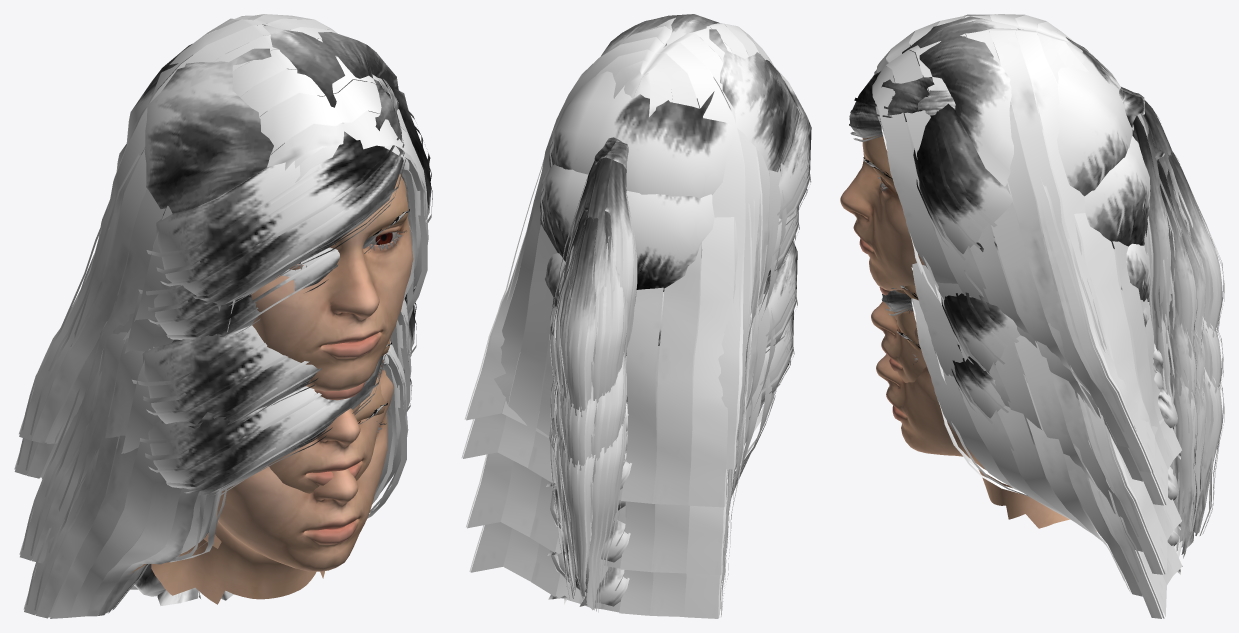
Rendered from mh_head_f.glb.
The picture shows the model from 3 angles, left to right: view 1: azimuth 30°, elevation 25°; view 2: azimuth 150°, elevation 25°; view 3: azimuth 270°, elevation 25°; orthographic projection. The views are drawn at different scales.
Parts seen in each view (by area): view 1: hair_braid01#3, hair_long01#3, hair_long01#2, hair_braid01#2, hair_braid01#0, face#2, hair_long01#0, face#3, face_cov#2, face_cov#3, hair_braid01#1, face#0 (+2 smaller); view 2: hair_long01#1, hair_long01#3, hair_braid01#3, hair_long01#0, hair_long01#2, hair_braid01#1, hair_ponytail01#1, hair_ponytail01#2, hair_ponytail01#3, hair_ponytail01#0, hair_braid01#0, hair_braid01#2; view 3: hair_long01#3, hair_braid01#3, hair_long01#2, hair_long01#0, hair_long01#1, hair_ponytail01#1, hair_ponytail01#2, hair_ponytail01#3, hair_braid01#1, hair_braid01#0, hair_ponytail01#0, face#2 (+6 smaller).
Part boxes in pixels (<box>): hair_braid01#3: <box>126,25,432,306</box>; hair_long01#3: <box>19,14,428,443</box>; hair_long01#2: <box>23,341,408,618</box>; hair_braid01#2: <box>133,355,412,605</box>; hair_braid01#0: <box>132,288,416,428</box>; face#2: <box>130,388,387,604</box>; hair_long01#0: <box>19,299,411,563</box>; face#3: <box>251,174,413,390</box>; face_cov#2: <box>216,377,387,600</box>; face_cov#3: <box>251,173,412,391</box>; hair_braid01#1: <box>116,144,381,339</box>; face#0: <box>204,343,394,548</box>; hair_long01#1: <box>461,174,778,507</box>; hair_long01#3: <box>464,17,786,469</box>; hair_braid01#3: <box>549,14,811,450</box>; hair_long01#0: <box>466,290,775,575</box>; hair_long01#2: <box>469,361,776,618</box>; hair_braid01#1: <box>540,164,799,489</box>; hair_ponytail01#1: <box>549,202,627,473</box>; hair_ponytail01#2: <box>550,413,625,612</box>; hair_ponytail01#3: <box>559,43,666,369</box>; hair_ponytail01#0: <box>550,352,626,568</box>; hair_braid01#0: <box>545,241,797,562</box>; hair_braid01#2: <box>548,310,794,606</box>; hair_long01#3: <box>872,14,1163,472</box>; hair_braid01#3: <box>849,14,1162,389</box>; hair_long01#2: <box>911,298,1182,618</box>; hair_long01#0: <box>911,263,1181,574</box>; hair_long01#1: <box>935,213,1181,505</box>; hair_ponytail01#1: <box>1149,146,1224,375</box>; hair_ponytail01#2: <box>1162,347,1224,558</box>; hair_ponytail01#3: <box>918,28,1192,337</box>; hair_braid01#1: <box>878,136,1180,459</box>; hair_braid01#0: <box>941,243,1182,529</box>; hair_ponytail01#0: <box>1153,294,1223,512</box>; face#2: <box>876,313,1096,531</box>.
Size of the model in its own units: 0.2474 by 0.4505 by 0.293.
7 materials, 7 textured.
